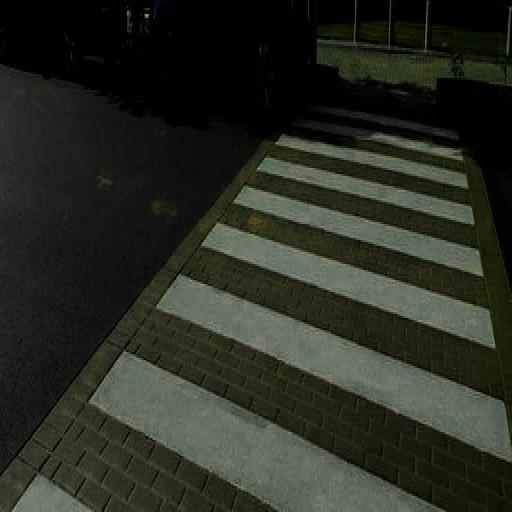crosswalk: (134, 210, 512, 484), (270, 112, 472, 196)
